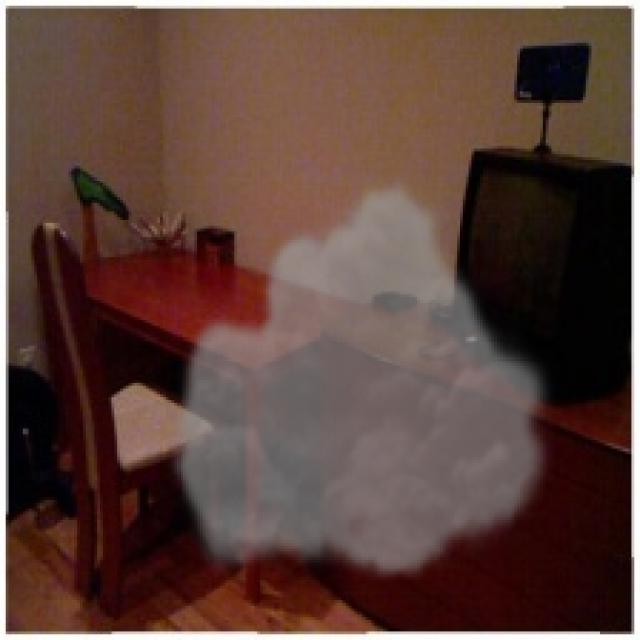smoke: (166, 171, 560, 583)
